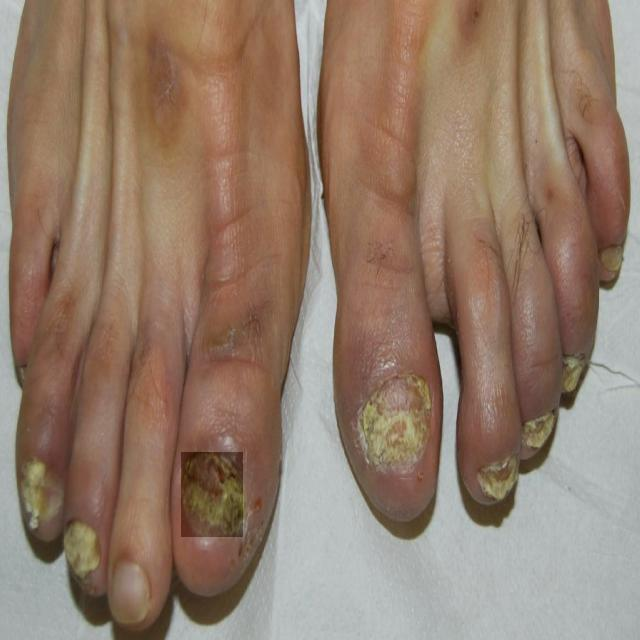diabetes: (363, 376, 430, 470), (181, 453, 243, 537)
